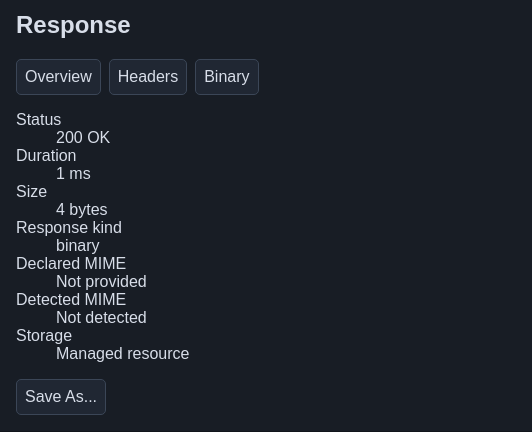
Scenario: renders bounded binary Hex and executable warning
The width and height of the screenshot is (532, 432).
What coordinates should you click on to do the following:
click the button "Binary"
I would click on:
 (227, 77)
Its box is [195,59,259,95].
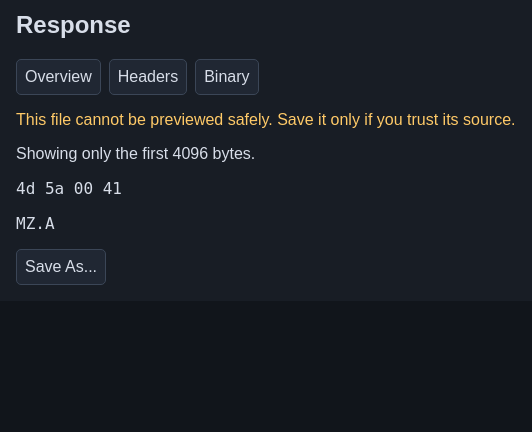
Expected: the text "4d 5a 00 41" is shown, [16,179,122,198]
Expected: the text "cannot be previewed safely" is shown, [16,111,516,128]
